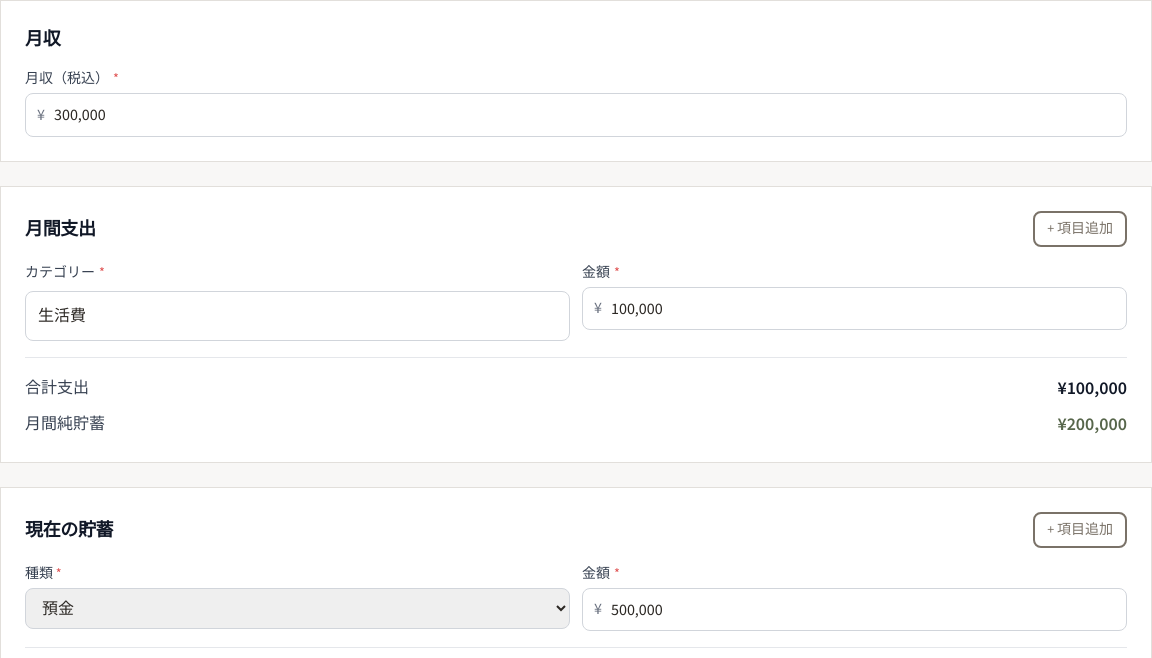
Scenario: FinancialInputForm › 動的項目追加 › 削除ボタンをクリックすると支出項目が減る
Click the button "+ 項目追加" in the row of "月間支出" at (1080, 229), box left=1033, top=211, right=1127, bottom=247
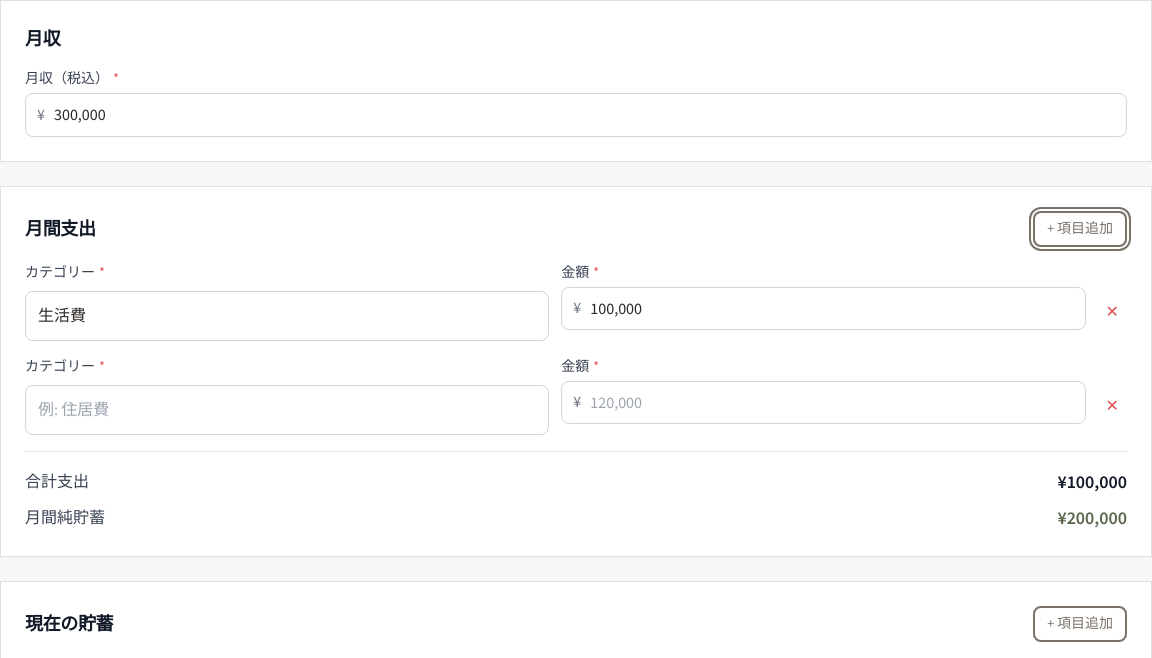
Now the number of fields with placeholder "例: 住居費" is 2, box left=25, top=291, right=549, bottom=341; left=25, top=385, right=549, bottom=435
Click the button named "削除" at (1112, 311), box left=1098, top=291, right=1127, bottom=332
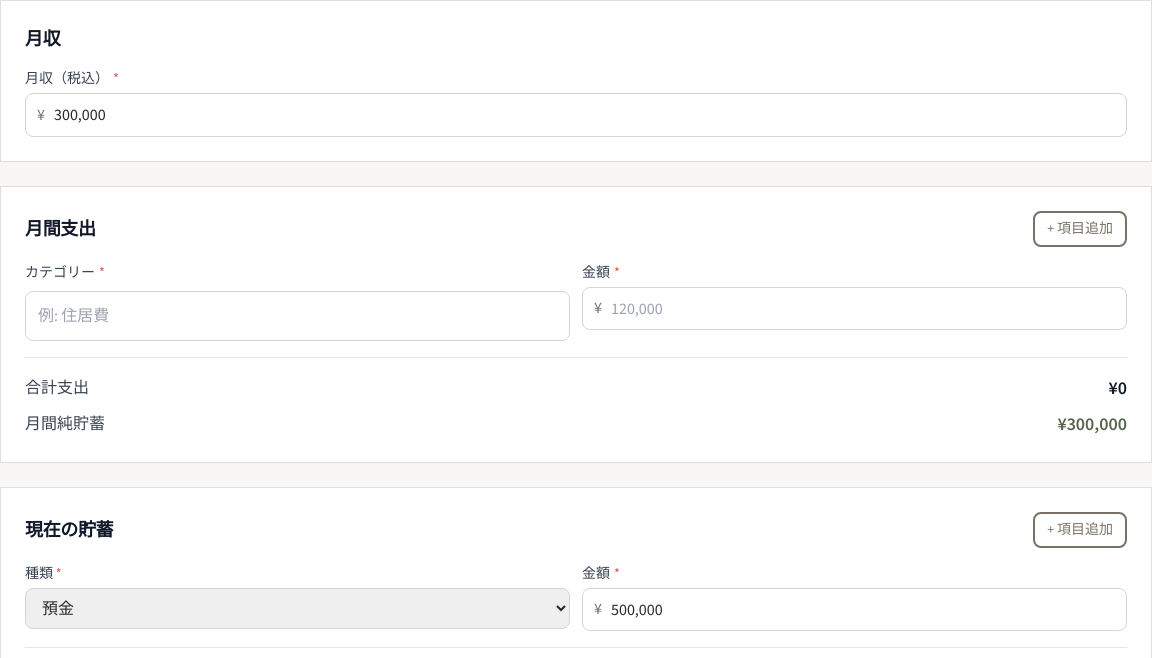
Now the number of fields with placeholder "例: 住居費" is 1, box left=25, top=291, right=570, bottom=341
